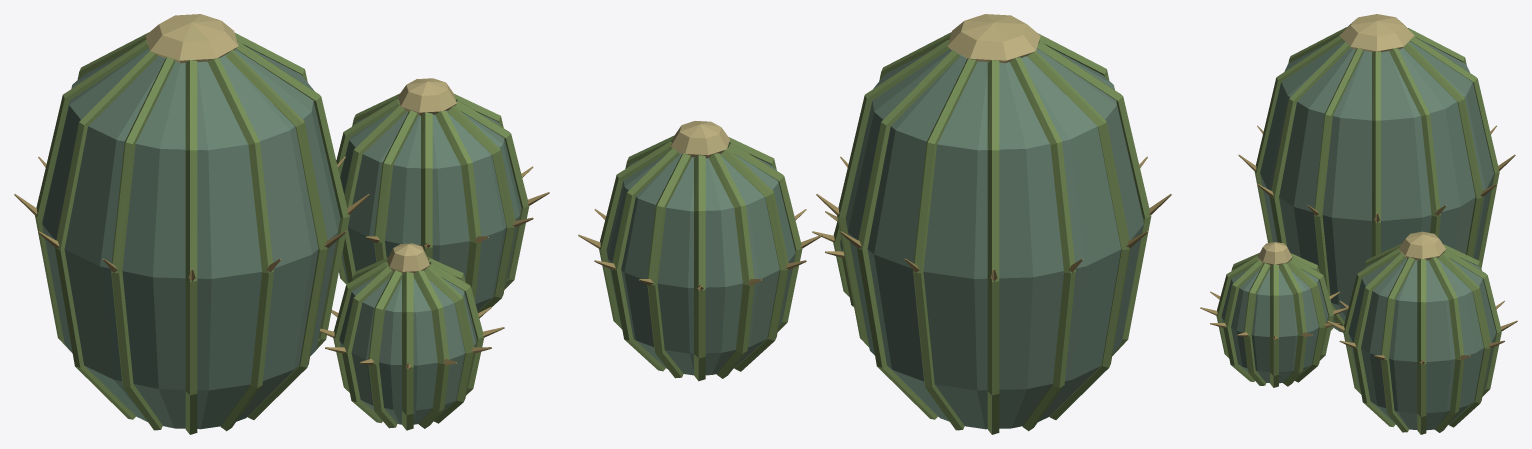
File: Plant_Feature_Desert_BarrelCactus_001.glb
3 renders of one model, left to right at view 1: azimuth 30°, elevation 25°; view 2: azimuth 150°, elevation 25°; view 3: azimuth 270°, elevation 25°, orthographic. The views are drawn at different scales.
Parts seen in each view (by area): view 1: Plant_Feature_Desert_BarrelCactus_001; view 2: Plant_Feature_Desert_BarrelCactus_001; view 3: Plant_Feature_Desert_BarrelCactus_001.
Part boxes in pixels (x1,y1,x2,y2): Plant_Feature_Desert_BarrelCactus_001: (14,14,549,434); Plant_Feature_Desert_BarrelCactus_001: (578,14,1171,434); Plant_Feature_Desert_BarrelCactus_001: (1200,14,1517,434).
Bounding box in the file's own units: 2.08 × 1.45 × 1.4.
